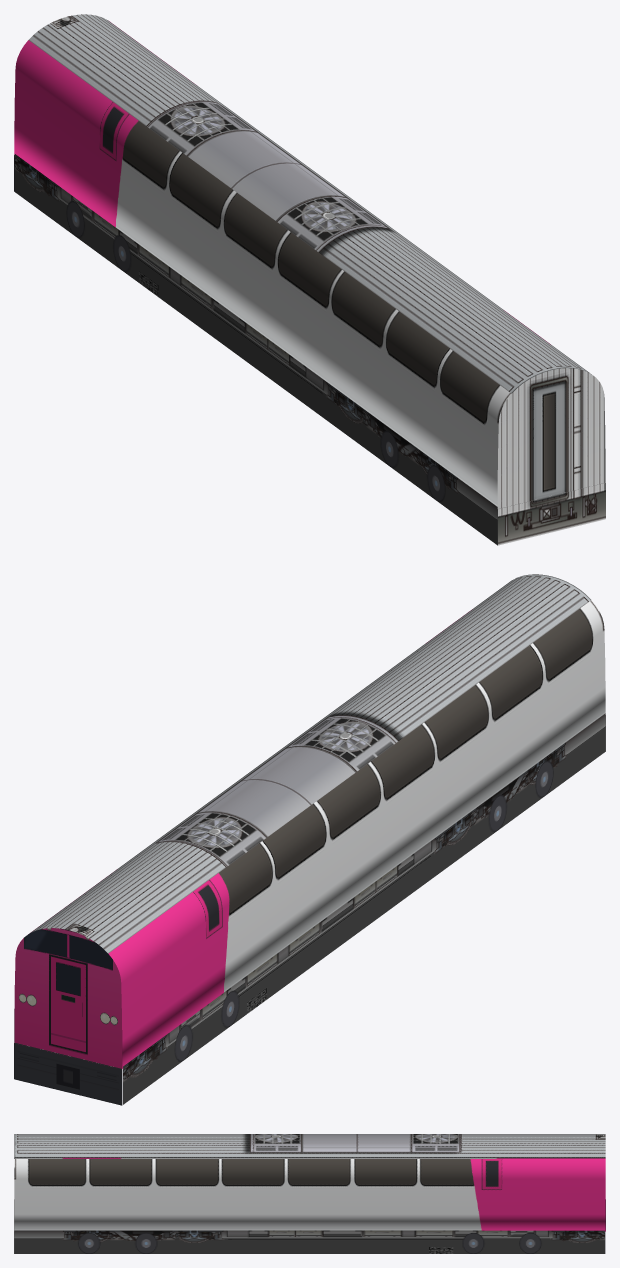
Rendered from car1.glb.
3 views of the same model, one above another, from view 1: azimuth 30°, elevation 25°; view 2: azimuth 150°, elevation 25°; view 3: azimuth 270°, elevation 25° (orthographic). The views are drawn at different scales.
Visible parts, largest first — view 1: jr_hokkaido_kiha261_5000_hamanasu; view 2: jr_hokkaido_kiha261_5000_hamanasu; view 3: jr_hokkaido_kiha261_5000_hamanasu.
Boxes of the visible parts, x1,y1,x2,y2 form: jr_hokkaido_kiha261_5000_hamanasu: (14,14,605,545); jr_hokkaido_kiha261_5000_hamanasu: (14,574,605,1105); jr_hokkaido_kiha261_5000_hamanasu: (14,1134,605,1253).
Size of the model in its own units: 2.8 by 4.01 by 21.7.
Materials: 7 (6 with a texture image).
